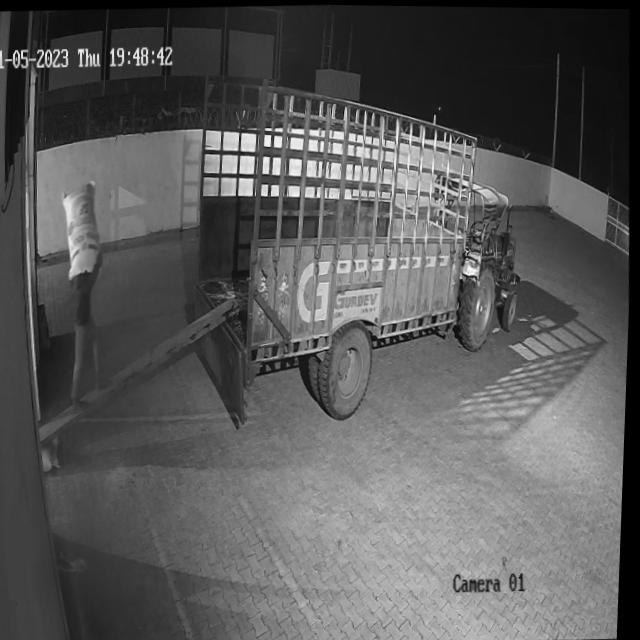sack: (60, 178, 105, 278)
